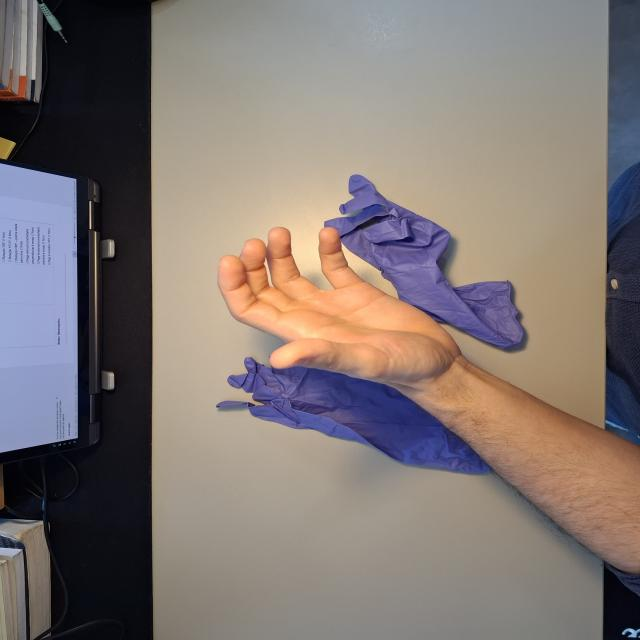glove_off: (214, 225, 471, 387)
